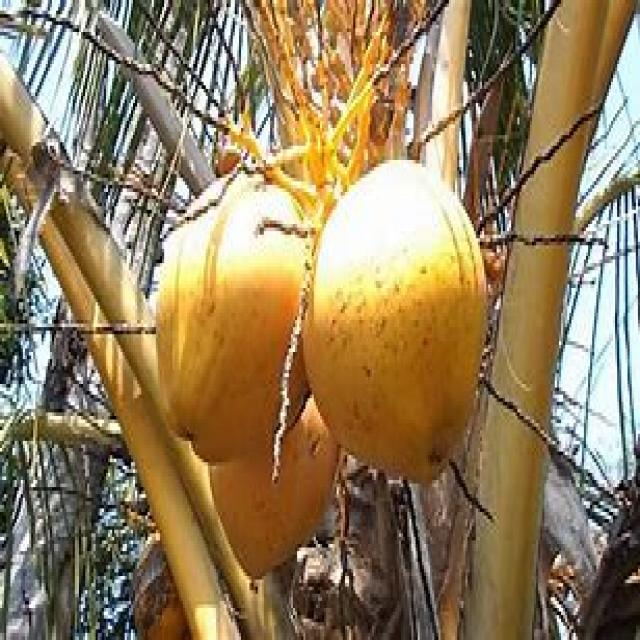coconut: (303, 156, 485, 489), (151, 173, 306, 460)
